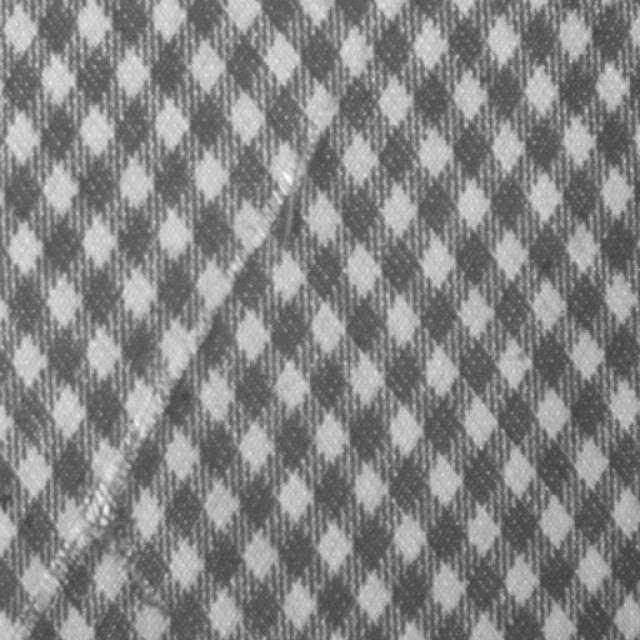Thread-Defect: (8, 34, 379, 639)
